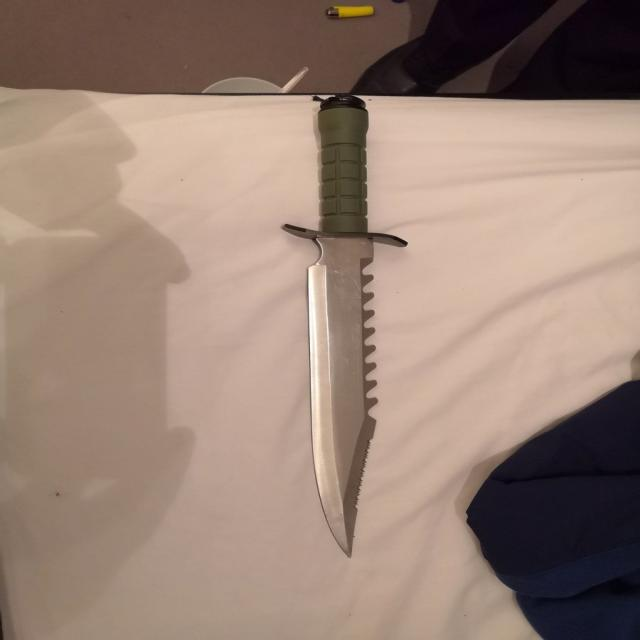Sharp-Object: (290, 94, 416, 559)
